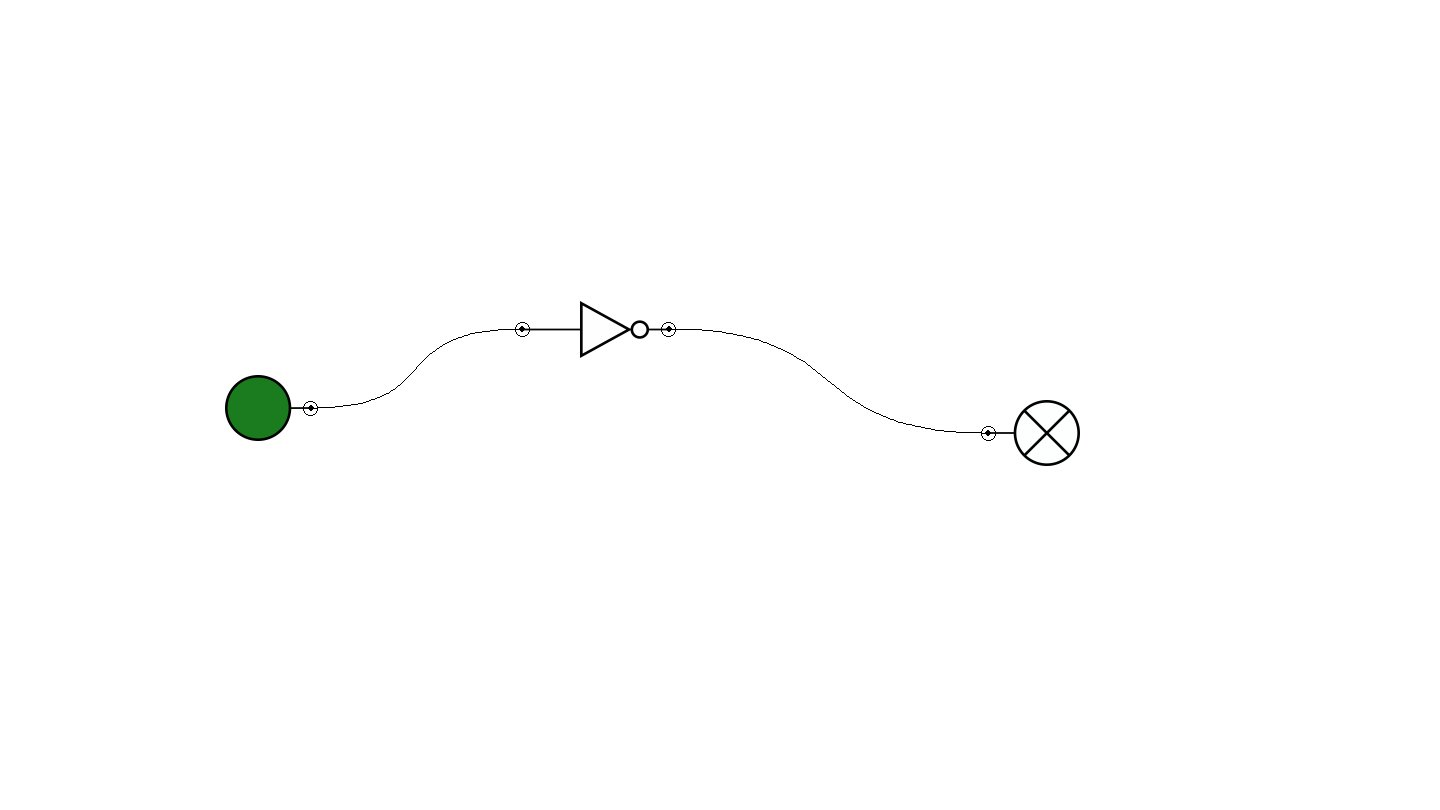bulb: (981, 400, 1080, 466)
not: (515, 301, 676, 358)
switch_True: (225, 375, 318, 441)
